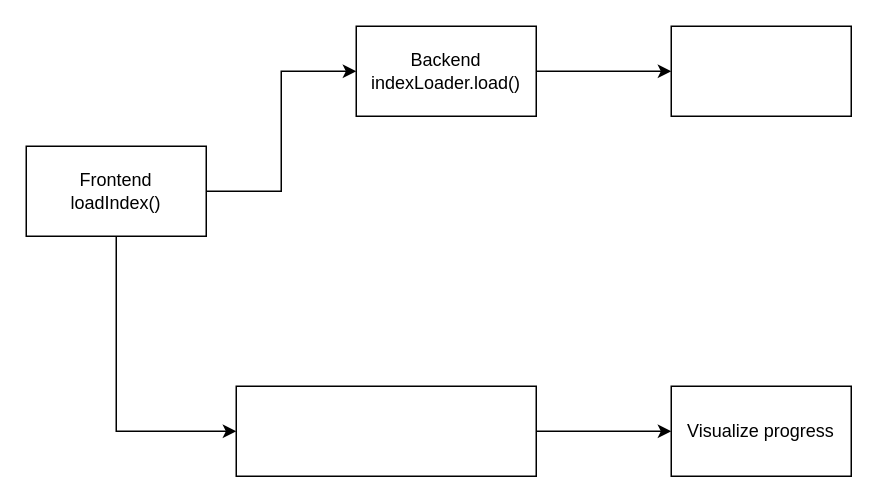
Some shapes in this 878 by 503 pixel diagram are drawn without their labels. The centre of each missing label's shape, as x and y in pixels:
Frontend subscribtion computeIndexProgressData(): (x=385, y=430)
Load index in Elasticsearch: (x=760, y=70)
